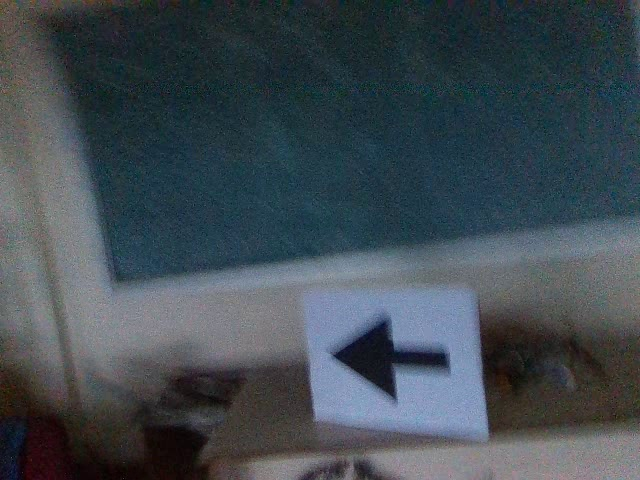Left: (321, 306, 456, 412)
